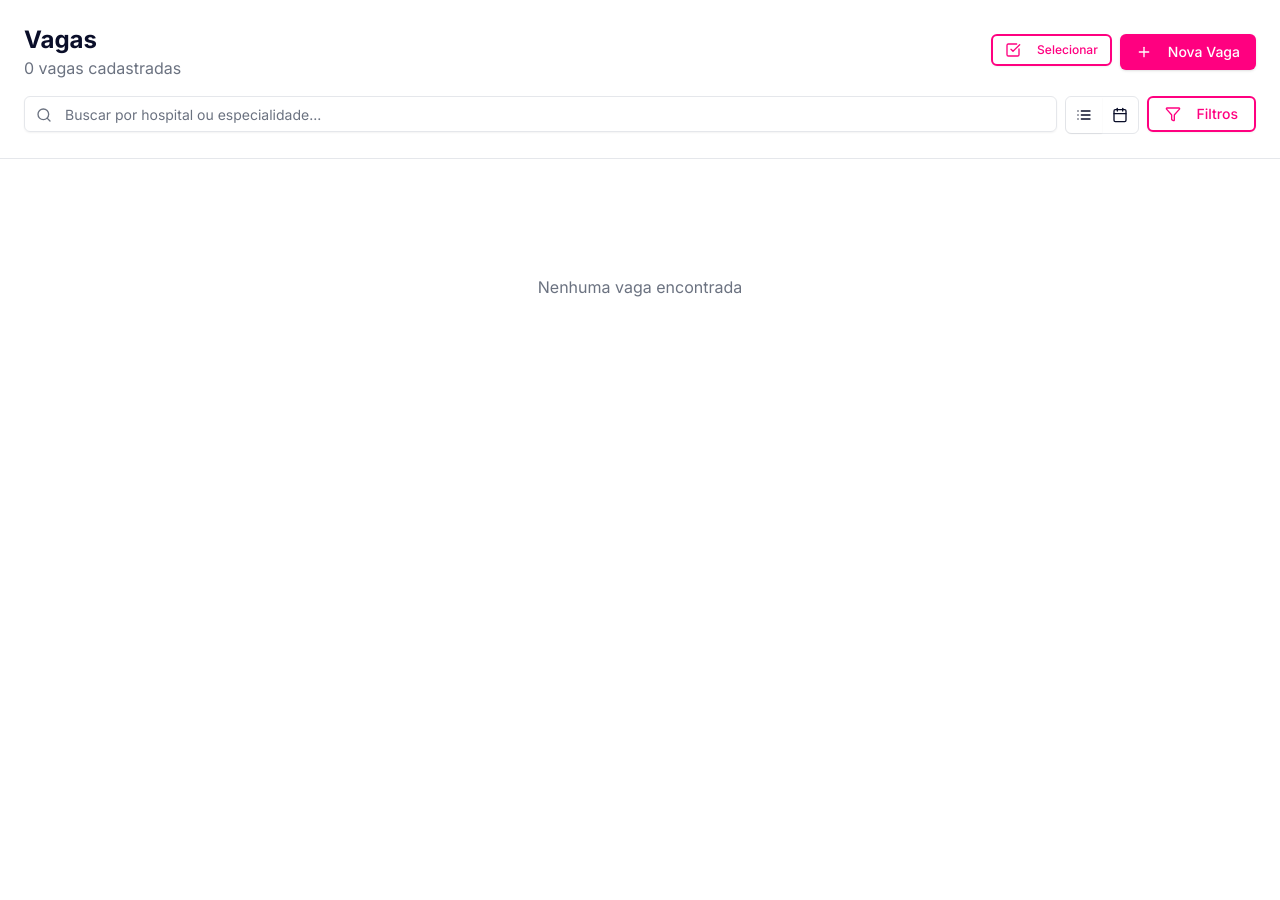
it: VagasPage › deve abrir sheet de filtros
Clicar no botao de filtros
Step 1. Click the button "Filtros" → (1201, 114), box [1147,96,1256,132]
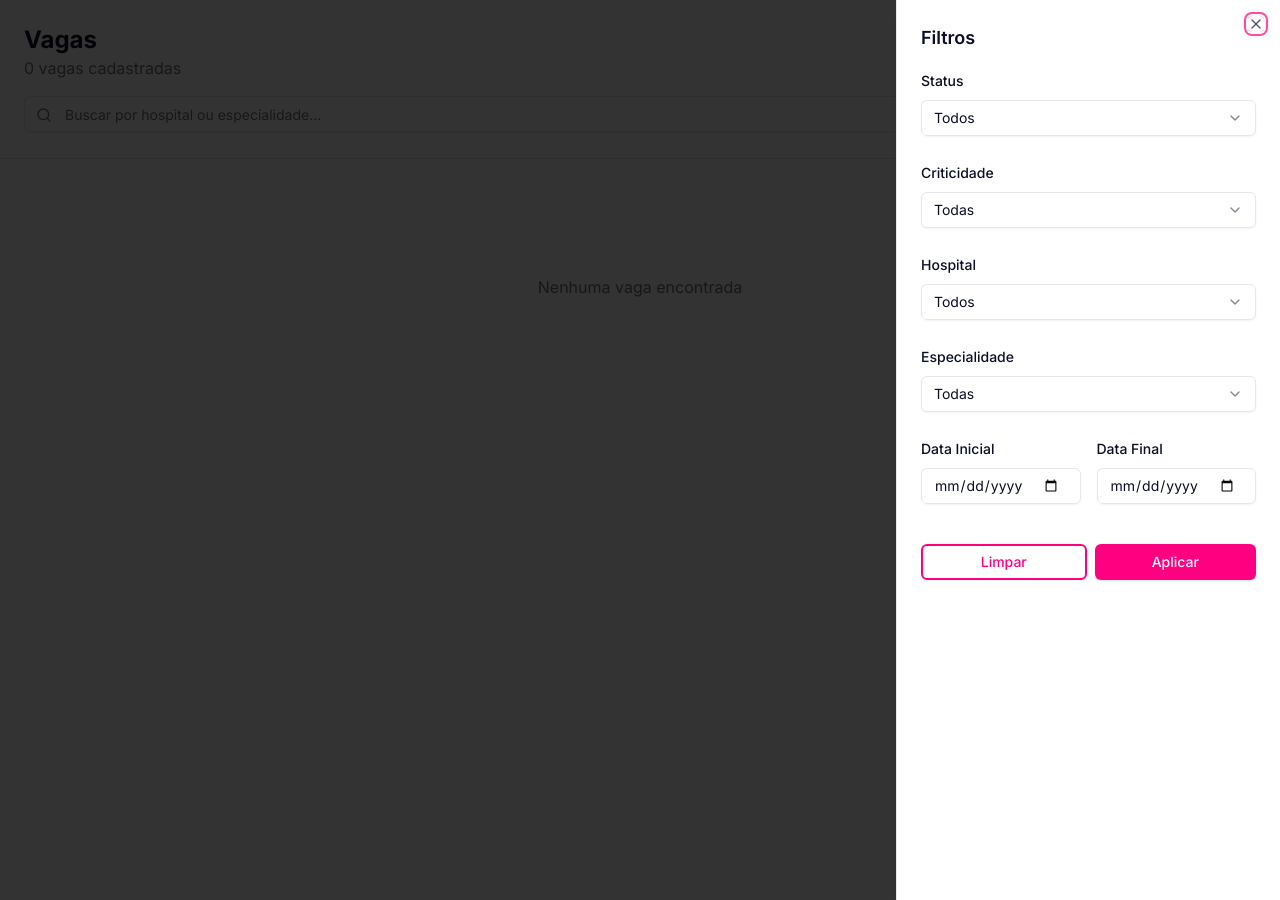
Result: the dialog is shown at [896,0,1279,899]
